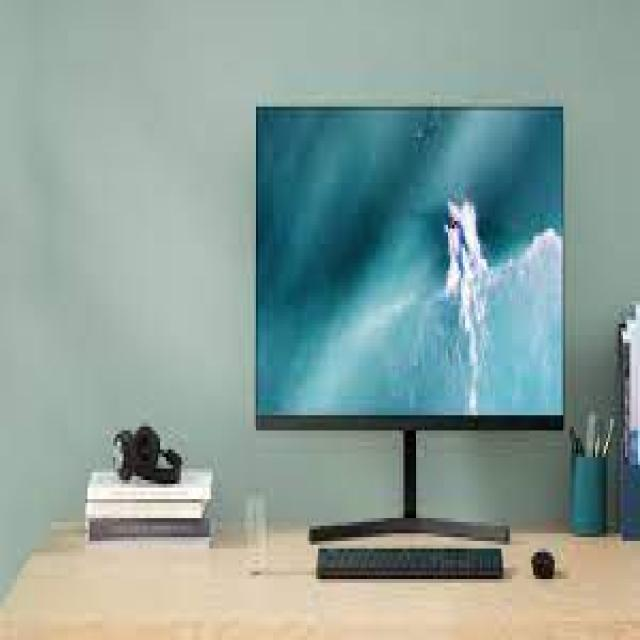monitor: (254, 99, 568, 539)
